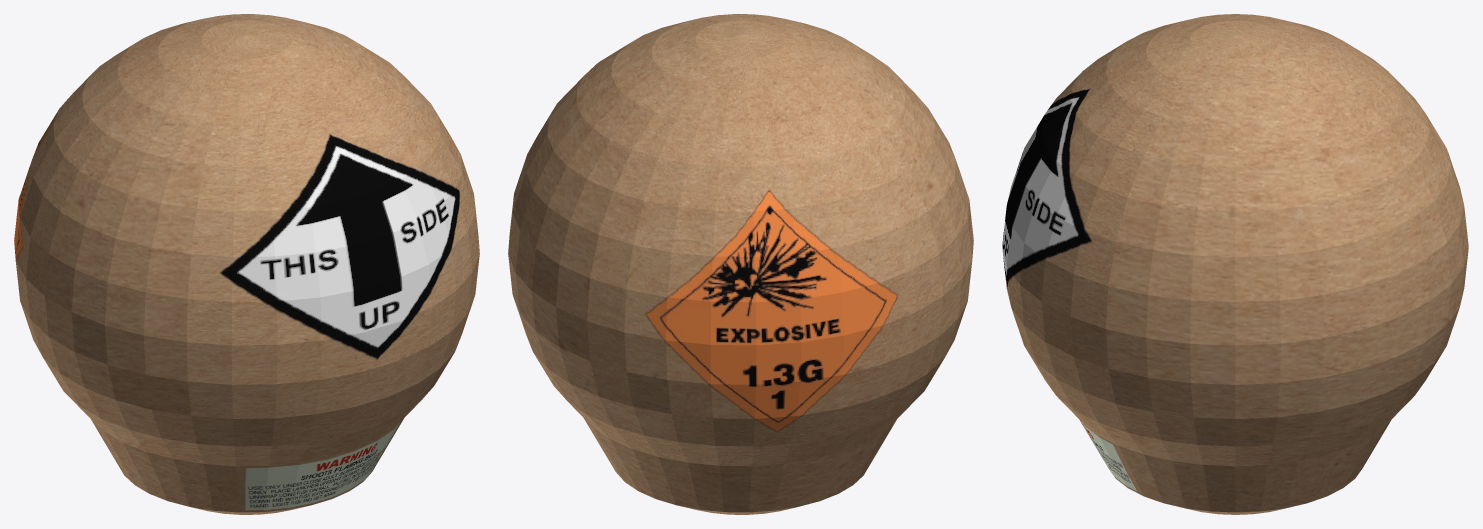
The model's file is Example_Ball_10_With_Fuse.fbx.
3 views of the same model, side by side, from view 1: azimuth 30°, elevation 25°; view 2: azimuth 150°, elevation 25°; view 3: azimuth 270°, elevation 25° (orthographic).
Parts seen in each view (by area): view 1: Sphere; view 2: Sphere; view 3: Sphere.
Boxes of the visible parts, x1,y1,x2,y2 form: Sphere: [14, 14, 479, 514]; Sphere: [508, 14, 973, 514]; Sphere: [1002, 14, 1468, 514].
Size of the model in its own units: 26.25 by 28.41 by 26.25.
Materials: 1 (1 with a texture image).
